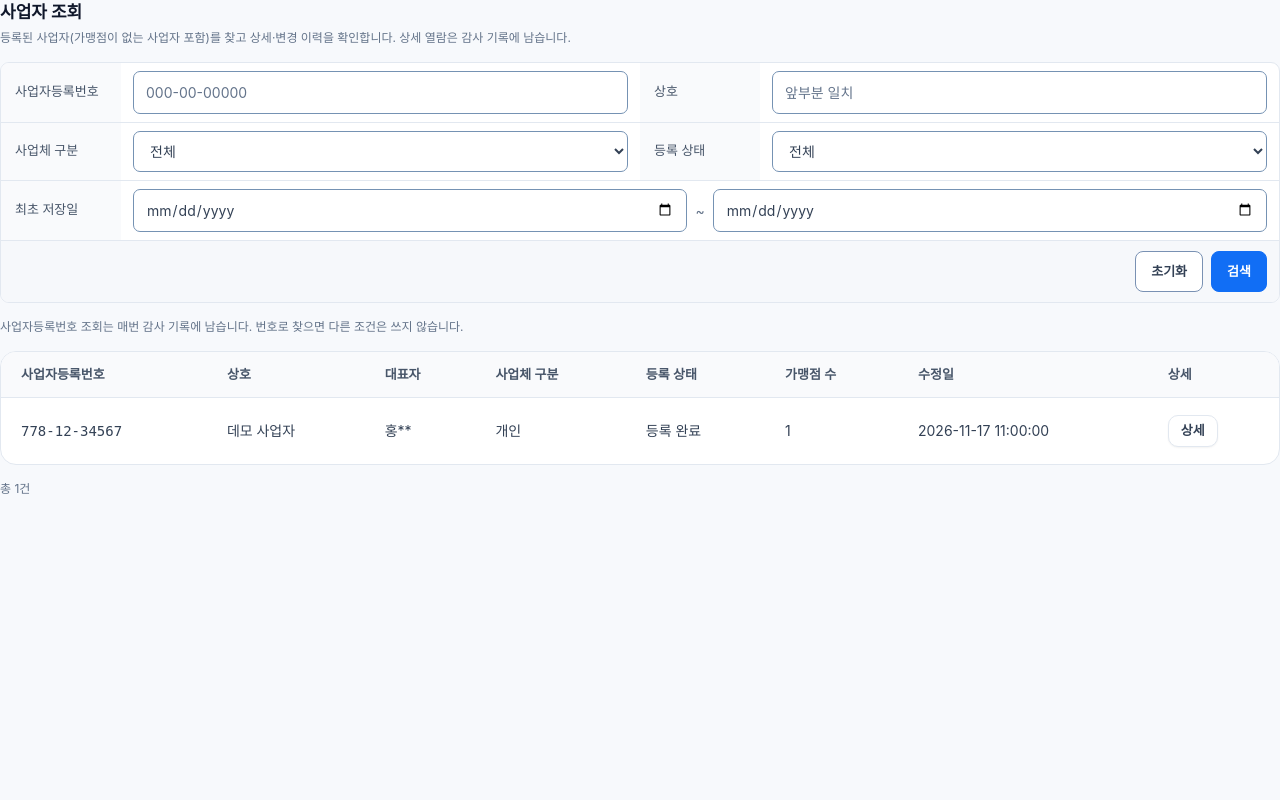
Test: detail screen switch moves focus to the new screen title (review MINOR-2) › 사업자 조회: "상세" → the business name title once the detail arrives; "목록으로" → the 사업자 조회 title; the first render moves nothing
Expected: the table named "사업자 목록" is shown, top-left (1, 352), bottom-right (1279, 464)
Click the button with aria-label "데모 사업자 상세" at coordinates (1193, 431), box top-left (1168, 415), bottom-right (1218, 447)
(page scrolled)
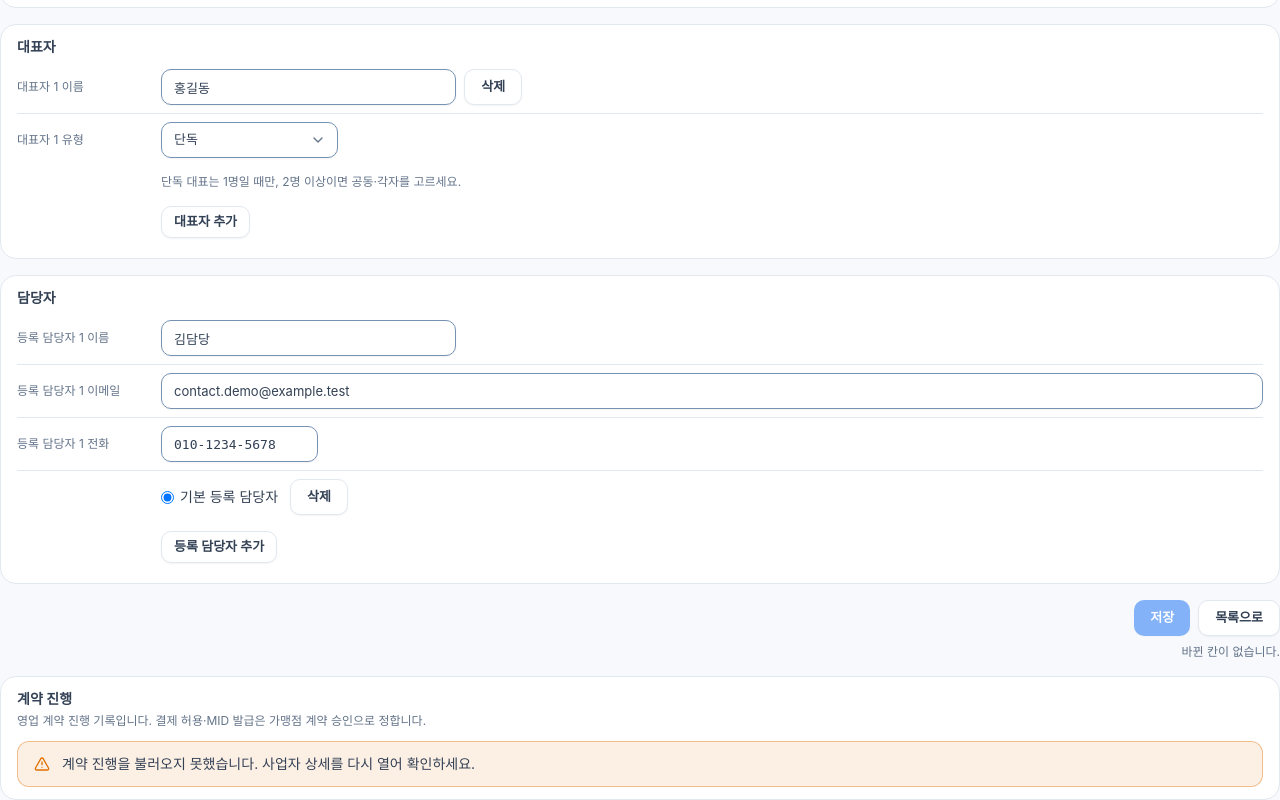
Click the button "목록으로" at coordinates (1239, 618), box top-left (1198, 600), bottom-right (1279, 636)
(page scrolled)
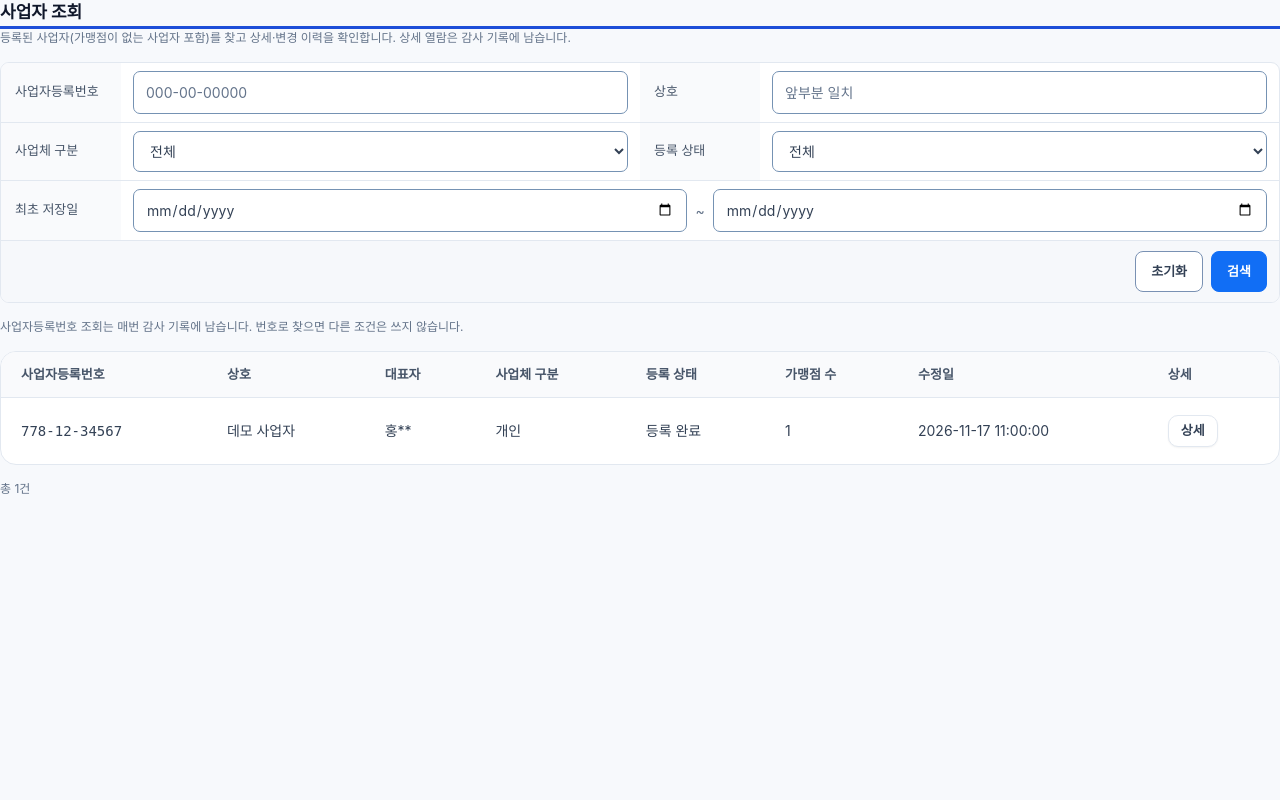
Expected: the table named "사업자 목록" is shown, top-left (1, 352), bottom-right (1279, 464)
